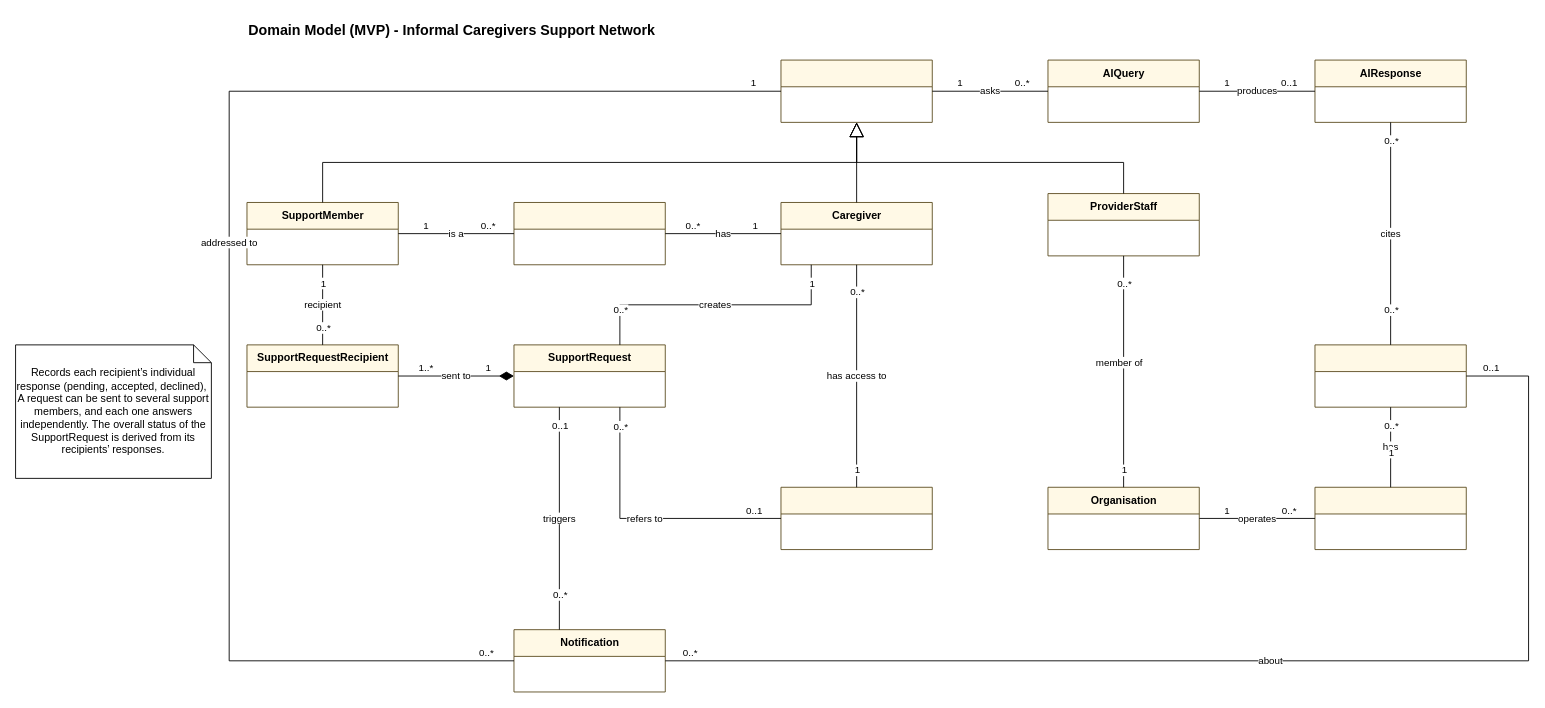
This 1545x708 diagram has some shape labels left out. Each missing label, with the centre of its shape:
"CareProfile" belongs at point 856,518.
"ServiceUpdate" belongs at point 1390,375.
"SupportContact" belongs at point 589,233.
"SupportService" belongs at point 1390,518.
"User" belongs at point 856,90.
